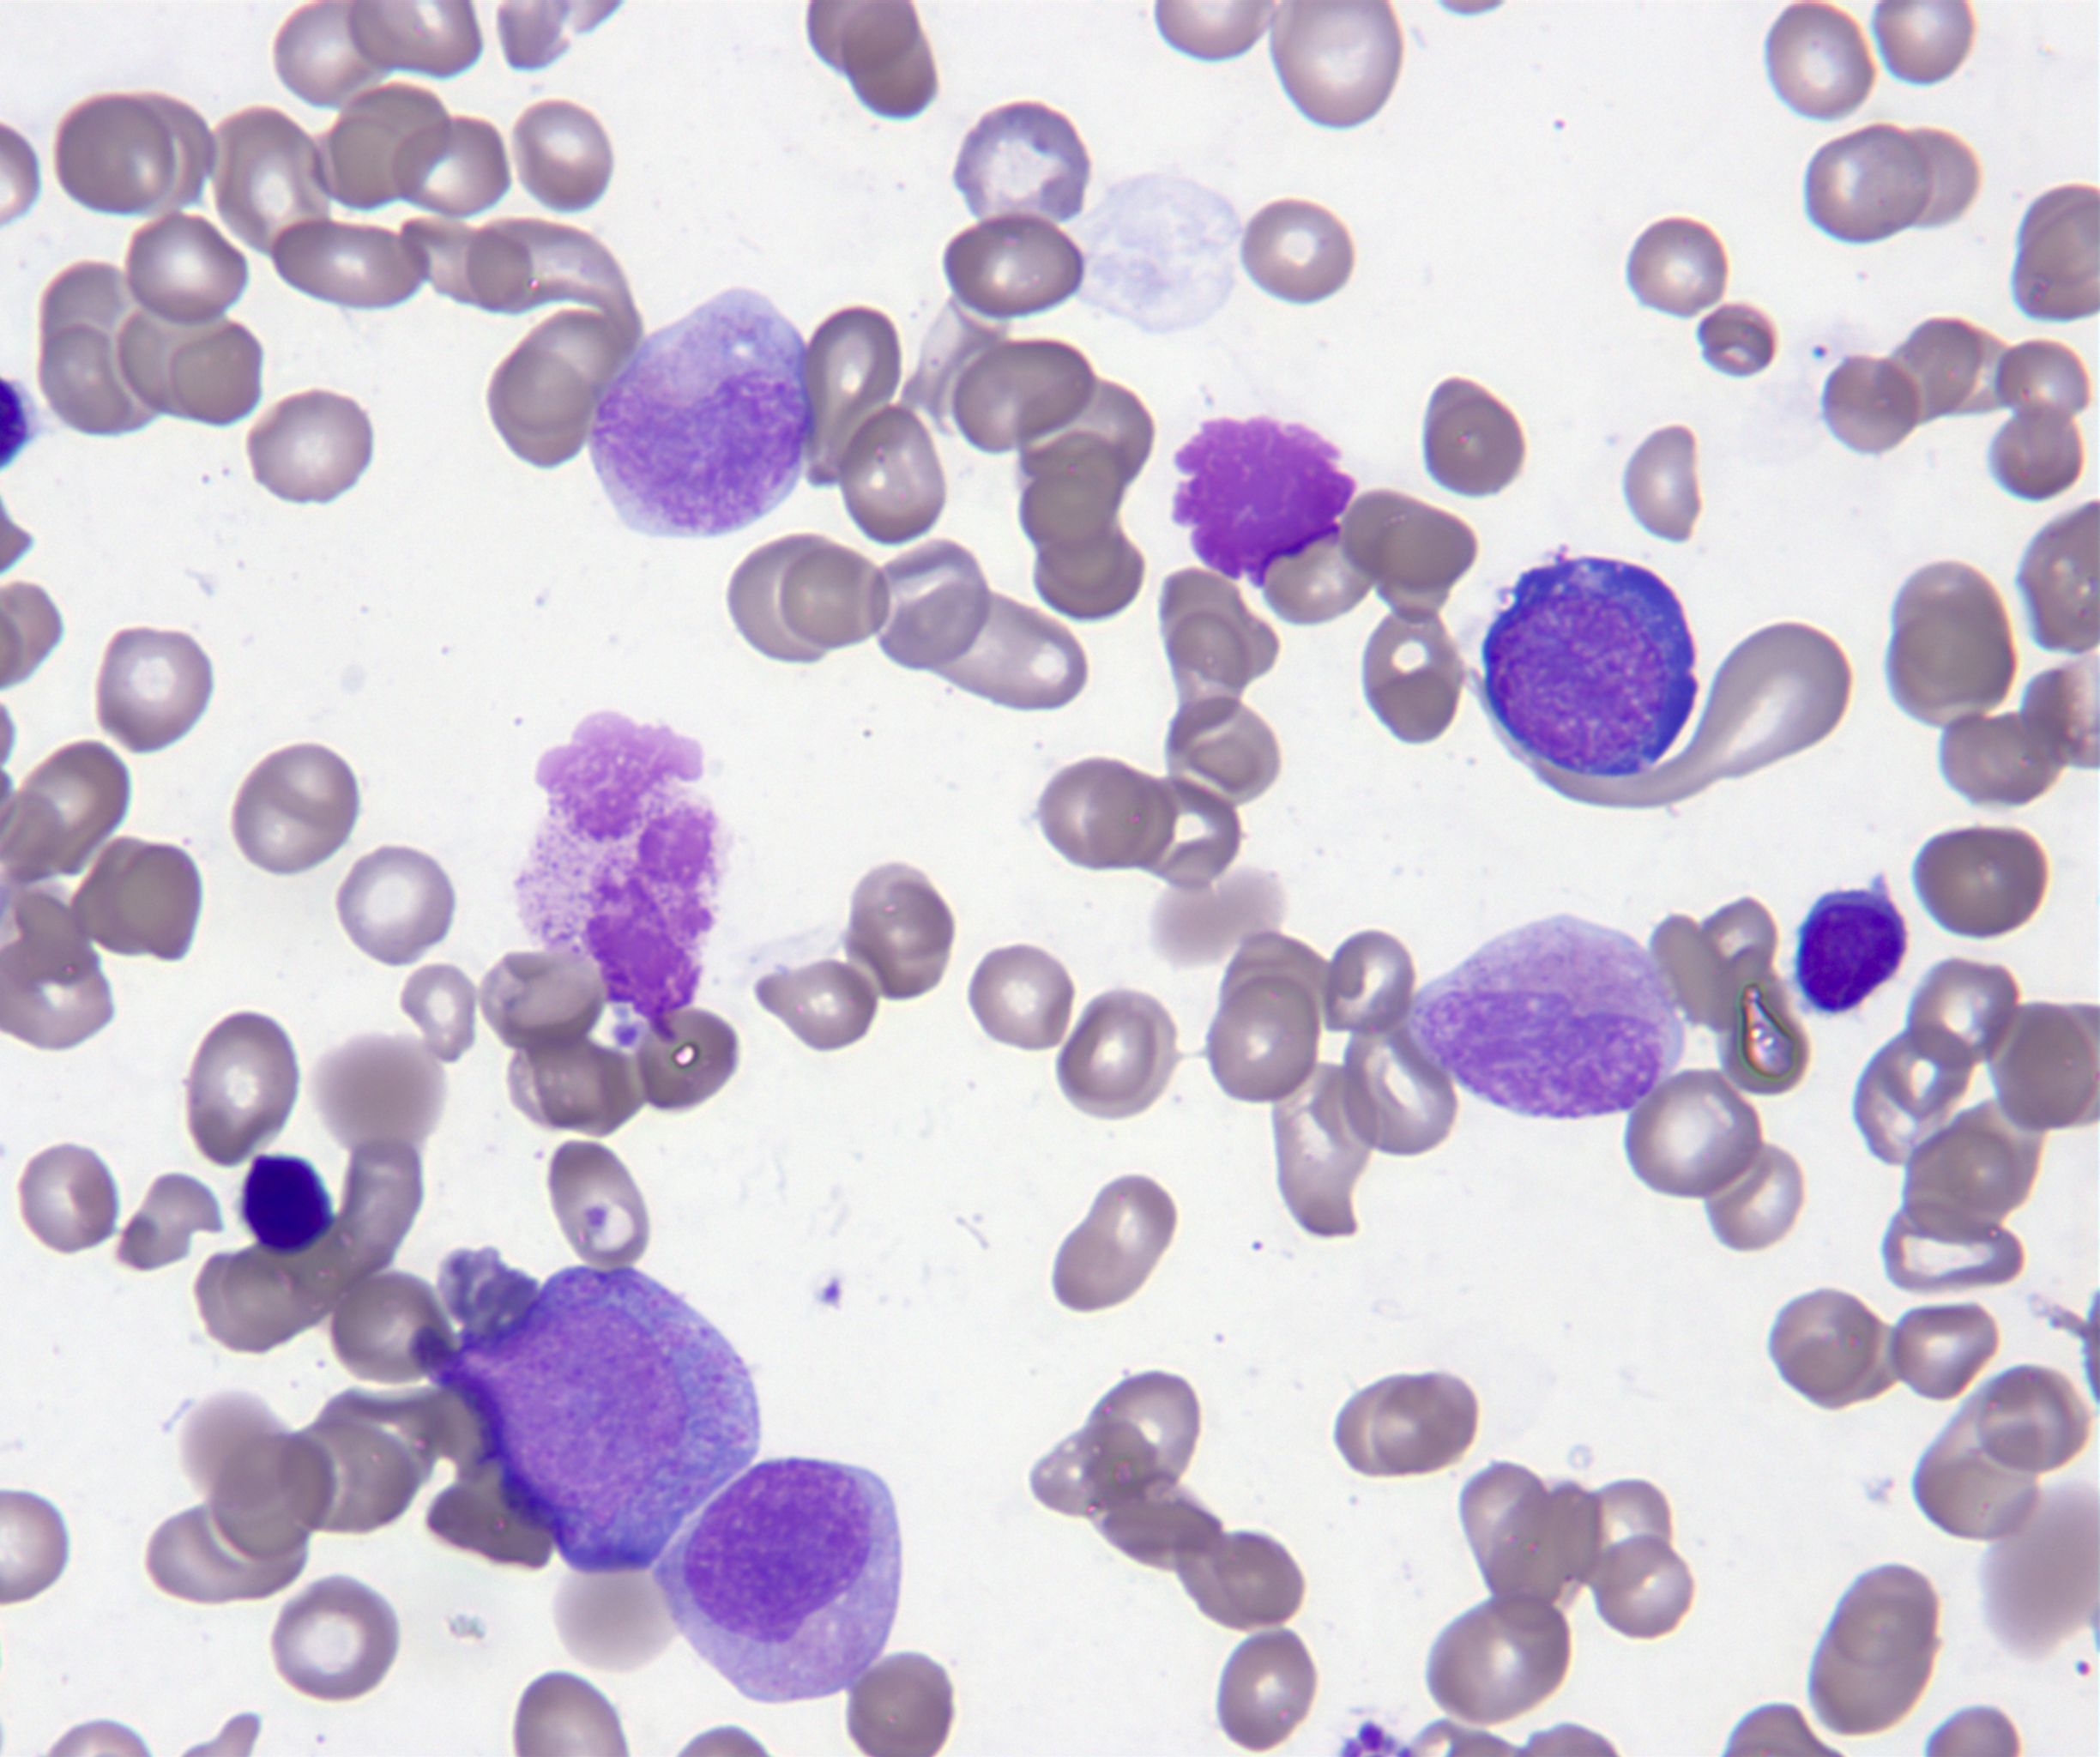2: (413, 1267, 757, 1574)
23: (1484, 553, 1697, 778)
3: (658, 1459, 907, 1703), (1401, 914, 1688, 1124), (588, 281, 815, 536)
32: (1797, 872, 1912, 1017), (239, 1157, 337, 1251)
x: (513, 705, 720, 1049), (1174, 414, 1357, 586)
